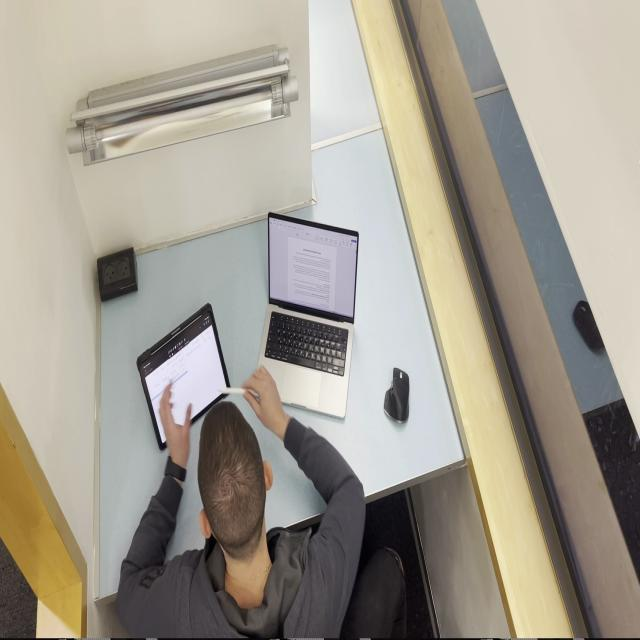bag: (136, 301, 231, 452)
ipad: (114, 365, 407, 639)
laptop: (256, 210, 359, 420)
mouse: (382, 367, 410, 424)
